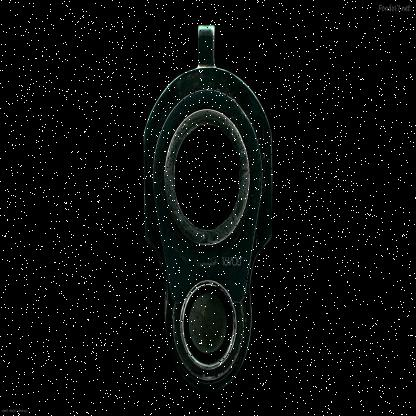pistol: (139, 17, 273, 395)
